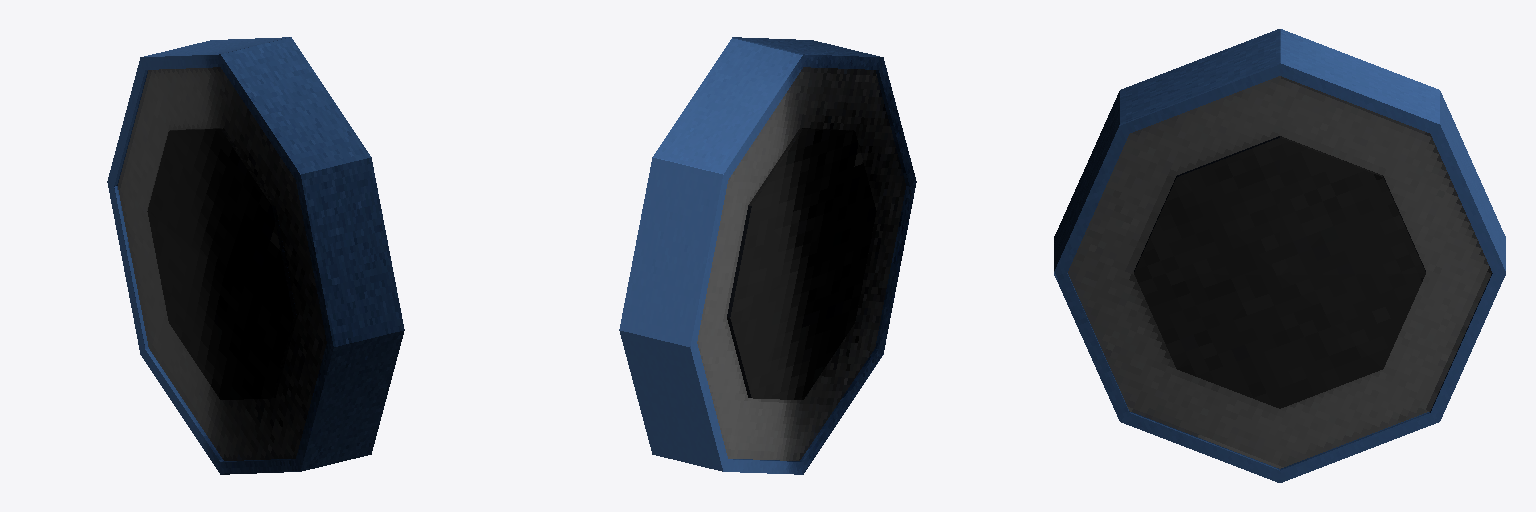
3 renders of one model, left to right at view 1: azimuth 30°, elevation 25°; view 2: azimuth 150°, elevation 25°; view 3: azimuth 270°, elevation 25°, orthographic.
Visible parts, largest first — view 1: WheelSide_Cube.002; view 2: WheelSide_Cube.002; view 3: WheelSide_Cube.002.
Boxes of the visible parts, box(x1,y1,x2,y2) form: WheelSide_Cube.002: box(107, 37, 404, 474); WheelSide_Cube.002: box(619, 37, 916, 474); WheelSide_Cube.002: box(1054, 29, 1505, 482).
Bounding box in the file's own units: 0.0248 × 0.1257 × 0.1227.
Materials: 1 (1 with a texture image).